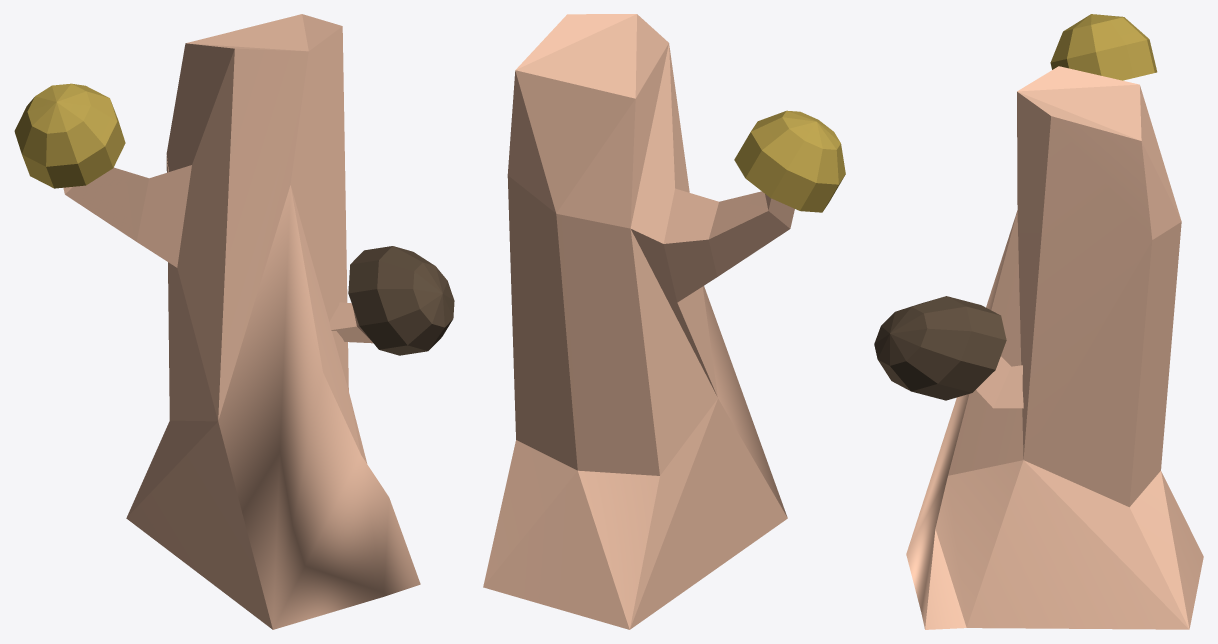
Rendered from Chr_LegLeft_Male_00_Static.fbx.
3 views of the same model, side by side, from view 1: azimuth 30°, elevation 25°; view 2: azimuth 150°, elevation 25°; view 3: azimuth 270°, elevation 25° (orthographic). The views are drawn at different scales.
Parts seen in each view (by area): view 1: Null_Chr_LegLeft_Male_00_Static; view 2: Null_Chr_LegLeft_Male_00_Static; view 3: Null_Chr_LegLeft_Male_00_Static.
Part boxes in pixels (box(x1,y1,x2,y2)): Null_Chr_LegLeft_Male_00_Static: box(14, 14, 454, 629); Null_Chr_LegLeft_Male_00_Static: box(483, 14, 845, 629); Null_Chr_LegLeft_Male_00_Static: box(874, 14, 1203, 629).
Size of the model in its own units: 30.33 by 44.22 by 25.98.
